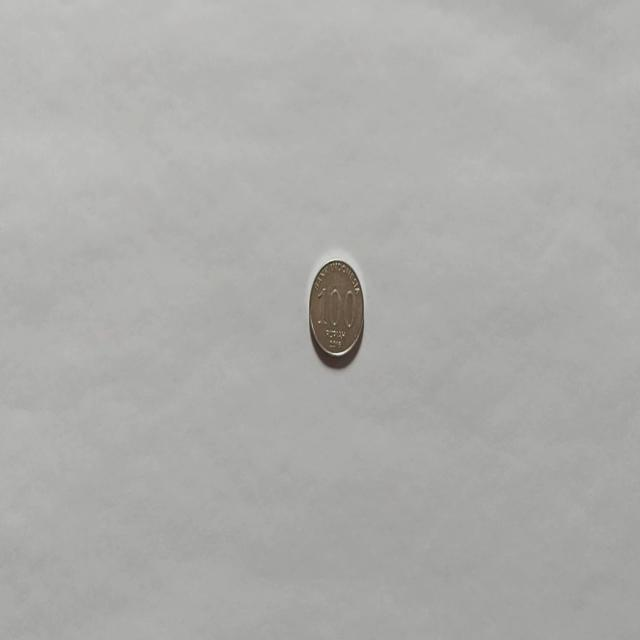seratus rupiah: (308, 257, 364, 362)
